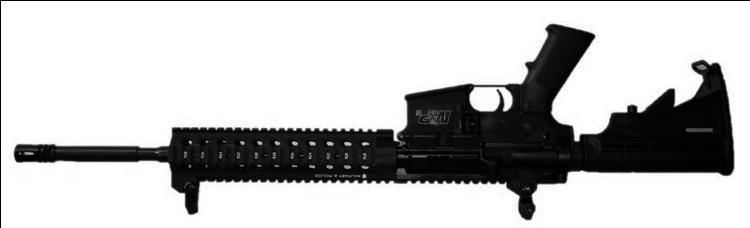gun: (14, 22, 733, 218)
